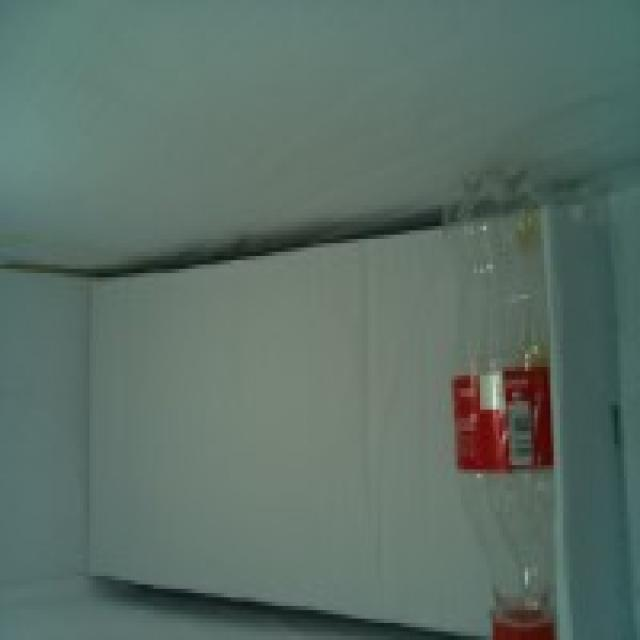Anorganik: (442, 158, 556, 636)
